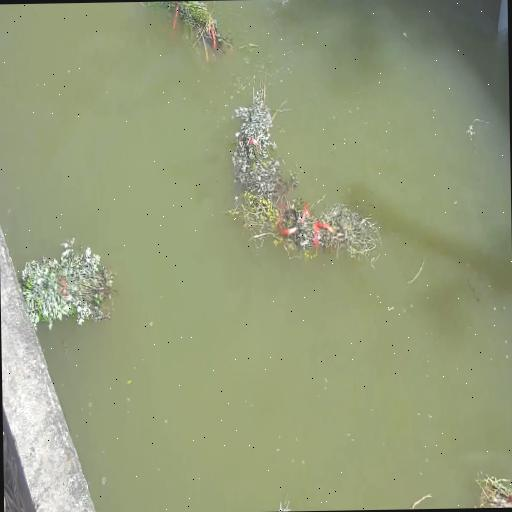twig: (228, 186, 376, 262), (22, 237, 118, 332), (229, 73, 291, 200), (147, 1, 230, 60), (474, 467, 512, 508)
